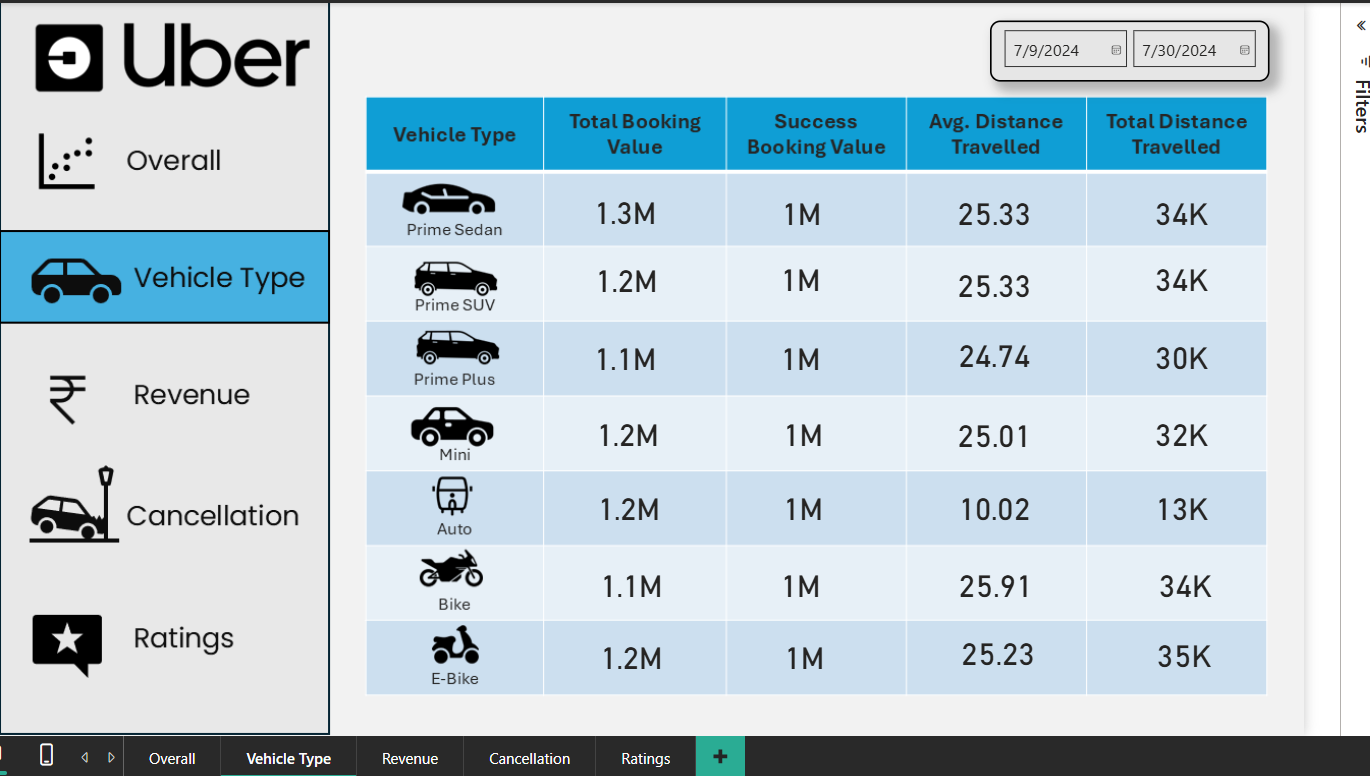

The page's visual inventory and layout, read from the dashboard file:
{"tool":"powerbi","page":{"name":"Vehicle Type","canvas":[1280,720],"ordinal":1},"visuals":[{"type":"actionButton","box":[0,111.2,323.8,92.5],"z":0},{"type":"actionButton","box":[0,342.5,323.8,92.5],"z":1000},{"type":"actionButton","box":[0,448.8,323.8,92.5],"z":2000},{"type":"actionButton","box":[1.2,578.8,323.8,92.5],"z":3000},{"type":"card","fields":{"Values":["Sum(Bookings (2).Booking_Value)"]},"box":[745.7,171.4,81.4,67.1],"z":4000},{"type":"card","fields":{"Values":["Sum(Bookings (2).Booking_Value)"]},"box":[734.3,237.1,104.3,67.1],"z":5000},{"type":"card","fields":{"Values":["Sum(Bookings (2).Booking_Value)"]},"box":[734.3,314.3,104.3,67.1],"z":6000},{"type":"card","fields":{"Values":["Sum(Bookings (2).Booking_Value)"]},"box":[735.7,388.6,104.3,67.1],"z":7000},{"type":"card","fields":{"Values":["Sum(Bookings (2).Booking_Value)"]},"box":[735.7,461.4,104.3,67.1],"z":8000},{"type":"card","fields":{"Values":["Sum(Bookings (2).Booking_Value)"]},"box":[734.3,537.1,104.3,67.1],"z":9000},{"type":"card","fields":{"Values":["Sum(Bookings (2).Booking_Value)"]},"box":[737.1,607.1,104.3,67.1],"z":10000},{"type":"card","fields":{"Values":["Avg(Bookings (2).Ride_Distance)"]},"box":[924.3,171.4,104.3,67.1],"z":11000},{"type":"card","fields":{"Values":["Avg(Bookings (2).Ride_Distance)"]},"box":[924.3,242.9,104.3,67.1],"z":12000},{"type":"card","fields":{"Values":["Avg(Bookings (2).Ride_Distance)"]},"box":[924.3,311.4,104.3,67.1],"z":13000},{"type":"card","fields":{"Values":["Avg(Bookings (2).Ride_Distance)"]},"box":[924.3,390,104.3,67.1],"z":14000},{"type":"card","fields":{"Values":["Avg(Bookings (2).Ride_Distance)"]},"box":[924.3,461.4,104.3,67.1],"z":15000},{"type":"card","fields":{"Values":["Avg(Bookings (2).Ride_Distance)"]},"box":[925.7,537.1,104.3,67.1],"z":16000},{"type":"card","fields":{"Values":["Avg(Bookings (2).Ride_Distance)"]},"box":[927.1,604.3,104.3,67.1],"z":17000},{"type":"card","fields":{"Values":["Sum(Bookings (2).Ride_Distance)"]},"box":[1108.6,171.4,104.3,67.1],"z":18000},{"type":"card","fields":{"Values":["Sum(Bookings (2).Ride_Distance)"]},"box":[1108.6,237.1,104.3,67.1],"z":19000},{"type":"card","fields":{"Values":["Sum(Bookings (2).Ride_Distance)"]},"box":[1108.6,312.9,104.3,67.1],"z":20000},{"type":"card","fields":{"Values":["Sum(Bookings (2).Ride_Distance)"]},"box":[1108.6,388.6,104.3,67.1],"z":21000},{"type":"card","fields":{"Values":["Sum(Bookings (2).Ride_Distance)"]},"box":[1108.6,461.4,104.3,67.1],"z":22000},{"type":"card","fields":{"Values":["Sum(Bookings (2).Ride_Distance)"]},"box":[1111.4,537.1,104.3,67.1],"z":23000},{"type":"card","fields":{"Values":["Sum(Bookings (2).Ride_Distance)"]},"box":[1110,605.7,104.3,67.1],"z":24000},{"type":"card","fields":{"Values":["Sum(Bookings (2).Booking_Value)"]},"box":[572.9,170,81.4,67.1],"z":25000},{"type":"card","fields":{"Values":["Sum(Bookings (2).Booking_Value)"]},"box":[574.3,238.6,81.4,67.1],"z":26000},{"type":"card","fields":{"Values":["Sum(Bookings (2).Booking_Value)"]},"box":[572.9,314.3,81.4,67.1],"z":27000},{"type":"card","fields":{"Values":["Sum(Bookings (2).Booking_Value)"]},"box":[575.7,388.6,81.4,67.1],"z":28000},{"type":"card","fields":{"Values":["Sum(Bookings (2).Booking_Value)"]},"box":[577.1,461.4,81.4,67.1],"z":29000},{"type":"card","fields":{"Values":["Sum(Bookings (2).Booking_Value)"]},"box":[578.6,537.1,81.4,67.1],"z":30000},{"type":"card","fields":{"Values":["Sum(Bookings (2).Booking_Value)"]},"box":[578.6,607.1,81.4,67.1],"z":31000},{"type":"slicer","title":"Date","fields":{"Values":["Bookings (2).Date"]},"box":[971.4,17.1,274.3,60],"z":32000}]}

Visuals, with their boxes on the page's 1280x720 design canvas (x1, y1, x2, y2). These are canvas units, not pixel positions in the 1370x776 screenshot, which may show the page scaled, cropped or inside an application window:
actionButton: 0/111/324/204
actionButton: 0/342/324/435
actionButton: 0/449/324/541
actionButton: 1/579/325/671
card - Sum(Bookings (2).Booking_Value): 746/171/827/238
card - Sum(Bookings (2).Booking_Value): 734/237/839/304
card - Sum(Bookings (2).Booking_Value): 734/314/839/381
card - Sum(Bookings (2).Booking_Value): 736/389/840/456
card - Sum(Bookings (2).Booking_Value): 736/461/840/528
card - Sum(Bookings (2).Booking_Value): 734/537/839/604
card - Sum(Bookings (2).Booking_Value): 737/607/841/674
card - Avg(Bookings (2).Ride_Distance): 924/171/1029/238
card - Avg(Bookings (2).Ride_Distance): 924/243/1029/310
card - Avg(Bookings (2).Ride_Distance): 924/311/1029/378
card - Avg(Bookings (2).Ride_Distance): 924/390/1029/457
card - Avg(Bookings (2).Ride_Distance): 924/461/1029/528
card - Avg(Bookings (2).Ride_Distance): 926/537/1030/604
card - Avg(Bookings (2).Ride_Distance): 927/604/1031/671
card - Sum(Bookings (2).Ride_Distance): 1109/171/1213/238
card - Sum(Bookings (2).Ride_Distance): 1109/237/1213/304
card - Sum(Bookings (2).Ride_Distance): 1109/313/1213/380
card - Sum(Bookings (2).Ride_Distance): 1109/389/1213/456
card - Sum(Bookings (2).Ride_Distance): 1109/461/1213/528
card - Sum(Bookings (2).Ride_Distance): 1111/537/1216/604
card - Sum(Bookings (2).Ride_Distance): 1110/606/1214/673
card - Sum(Bookings (2).Booking_Value): 573/170/654/237
card - Sum(Bookings (2).Booking_Value): 574/239/656/306
card - Sum(Bookings (2).Booking_Value): 573/314/654/381
card - Sum(Bookings (2).Booking_Value): 576/389/657/456
card - Sum(Bookings (2).Booking_Value): 577/461/658/528
card - Sum(Bookings (2).Booking_Value): 579/537/660/604
card - Sum(Bookings (2).Booking_Value): 579/607/660/674
"Date" slicer: 971/17/1246/77
